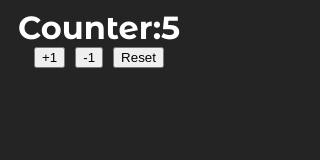
Scenario: MyCounterApp › should decrement the counter
Click the button "-1". click: point(89, 58)
box: [75,47,103,68]
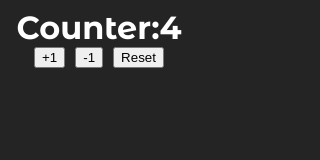
Expected: the heading reads "Counter:4", [16,8,182,47]
